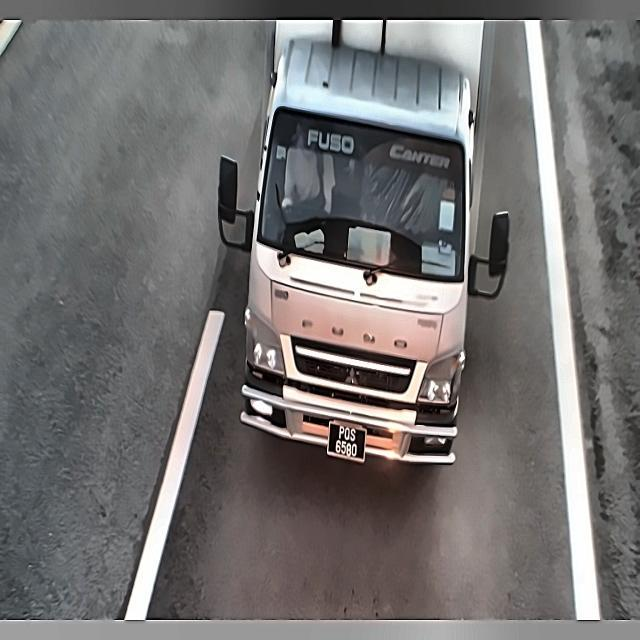car: (324, 416, 372, 471)
